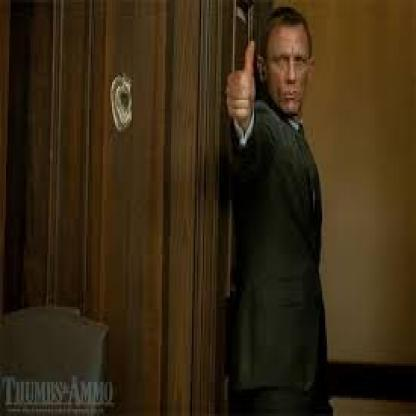thumb_up: (220, 36, 260, 124)
